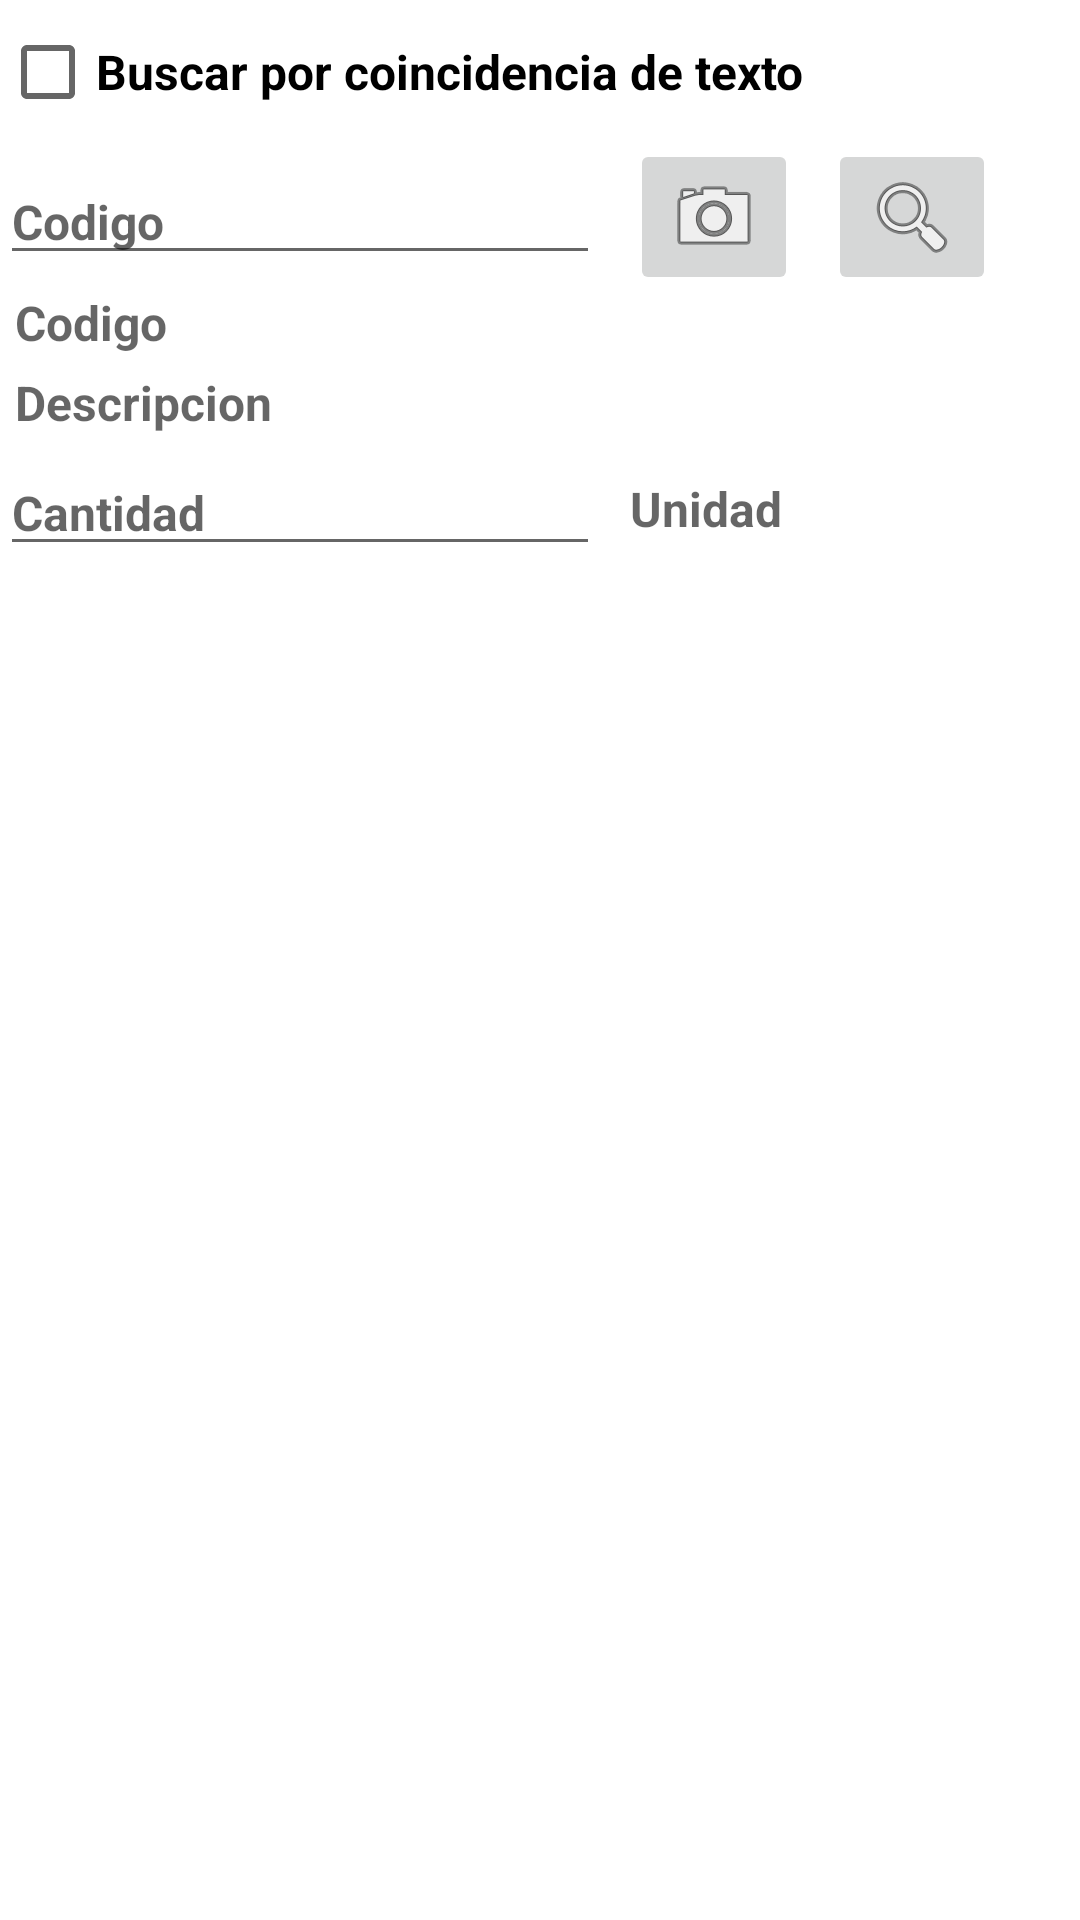

Icons on this 1080 × 1920 Android screen, each with its box as (x1, y1, x2, y2):
camera: (642, 157, 786, 277)
search: (840, 157, 984, 277)
